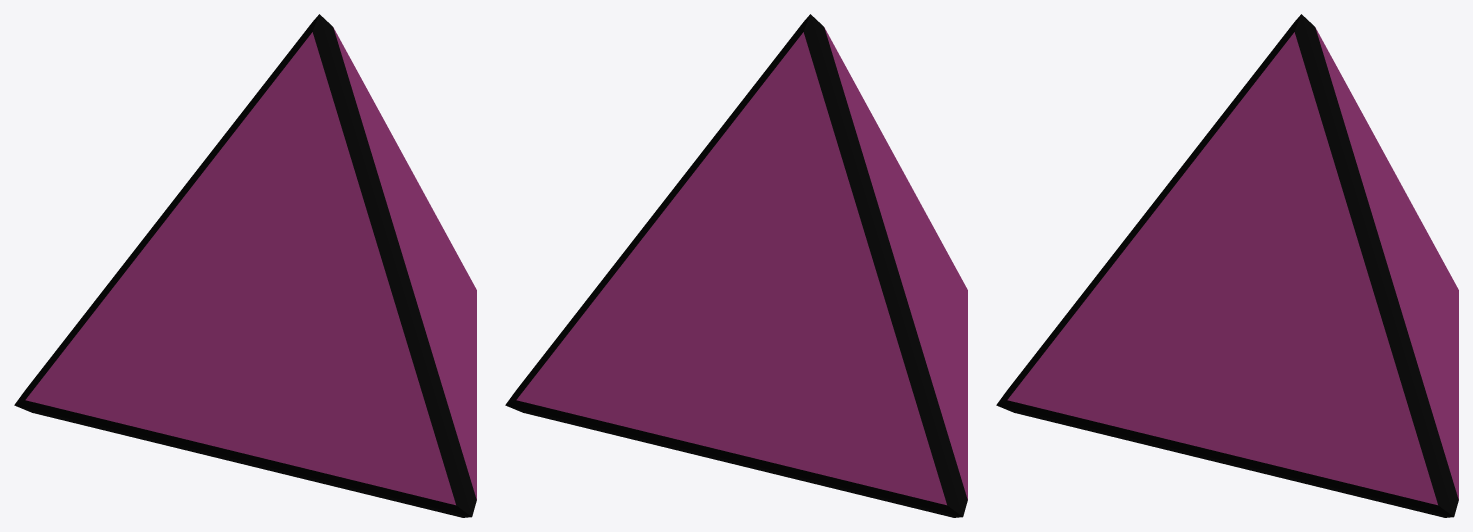
The model's file is Gem 1.fbx.
The picture shows the model from 3 angles, left to right: view 1: azimuth 30°, elevation 25°; view 2: azimuth 150°, elevation 25°; view 3: azimuth 270°, elevation 25°; orthographic projection.
Parts seen in each view (by area): view 1: crystal:tetrahedron1_default; view 2: crystal:tetrahedron1_default; view 3: crystal:tetrahedron1_default.
Part boxes in pixels (left/top/right/bottom): crystal:tetrahedron1_default: left=14, top=14, right=476, bottom=517; crystal:tetrahedron1_default: left=505, top=14, right=967, bottom=517; crystal:tetrahedron1_default: left=996, top=14, right=1458, bottom=517.
Bounding box in the file's own units: 1.86 × 1.55 × 1.63.
